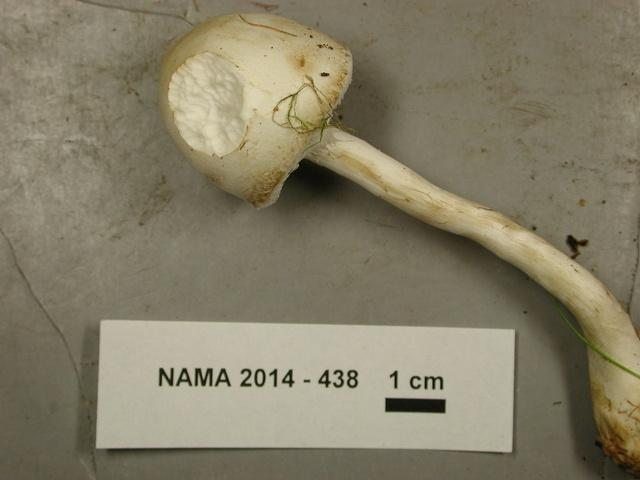poisonous_mushroom: (156, 10, 639, 475)
